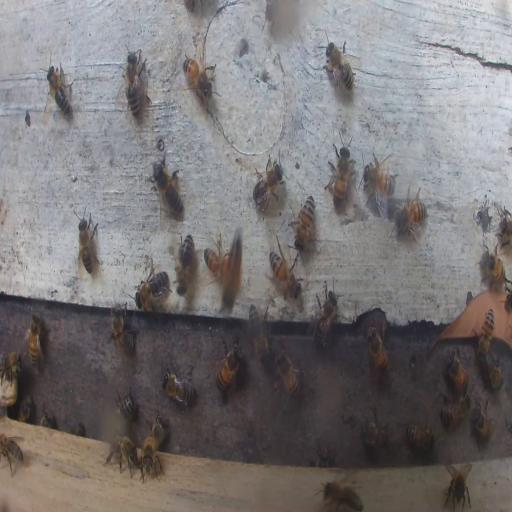nonpollenbee: (360, 150, 400, 212), (324, 130, 354, 210), (392, 184, 427, 242), (323, 38, 356, 96), (252, 157, 285, 213), (182, 54, 216, 104), (122, 46, 145, 117), (153, 164, 184, 216), (268, 248, 300, 298), (442, 462, 474, 511), (312, 287, 338, 347), (76, 210, 99, 276), (274, 346, 303, 398), (108, 304, 137, 356), (136, 266, 171, 309), (319, 477, 363, 511), (160, 366, 197, 406), (45, 65, 72, 118), (216, 338, 243, 391), (248, 300, 270, 363), (204, 237, 231, 286), (174, 232, 194, 294), (105, 434, 137, 472), (293, 195, 315, 248), (0, 348, 22, 400), (471, 398, 493, 449), (439, 394, 470, 430), (478, 245, 505, 286), (28, 308, 44, 374), (366, 324, 388, 372), (362, 411, 389, 450), (0, 434, 25, 475), (445, 352, 468, 392), (404, 423, 436, 451), (478, 306, 494, 359), (141, 438, 161, 478), (148, 414, 166, 450), (116, 389, 134, 420), (17, 394, 35, 423), (488, 355, 502, 391), (499, 208, 512, 246), (41, 407, 56, 428), (316, 446, 330, 468), (504, 276, 512, 310)
pollenbee: (218, 223, 246, 314)
